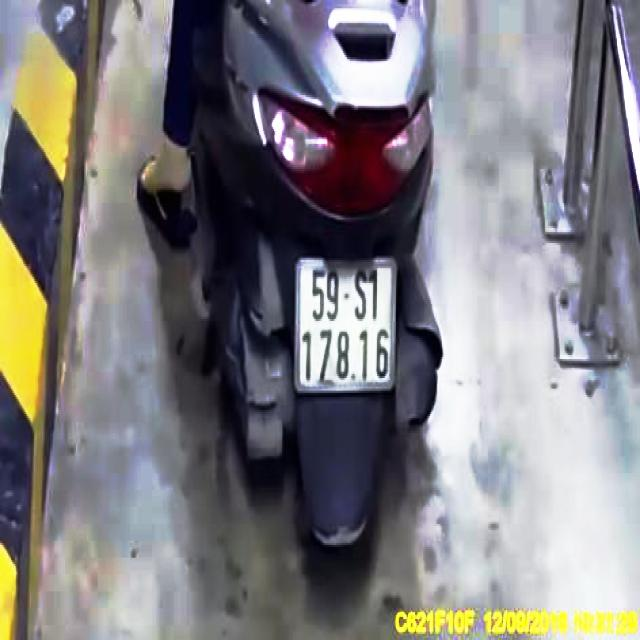license_plate: (300, 263, 395, 383)
